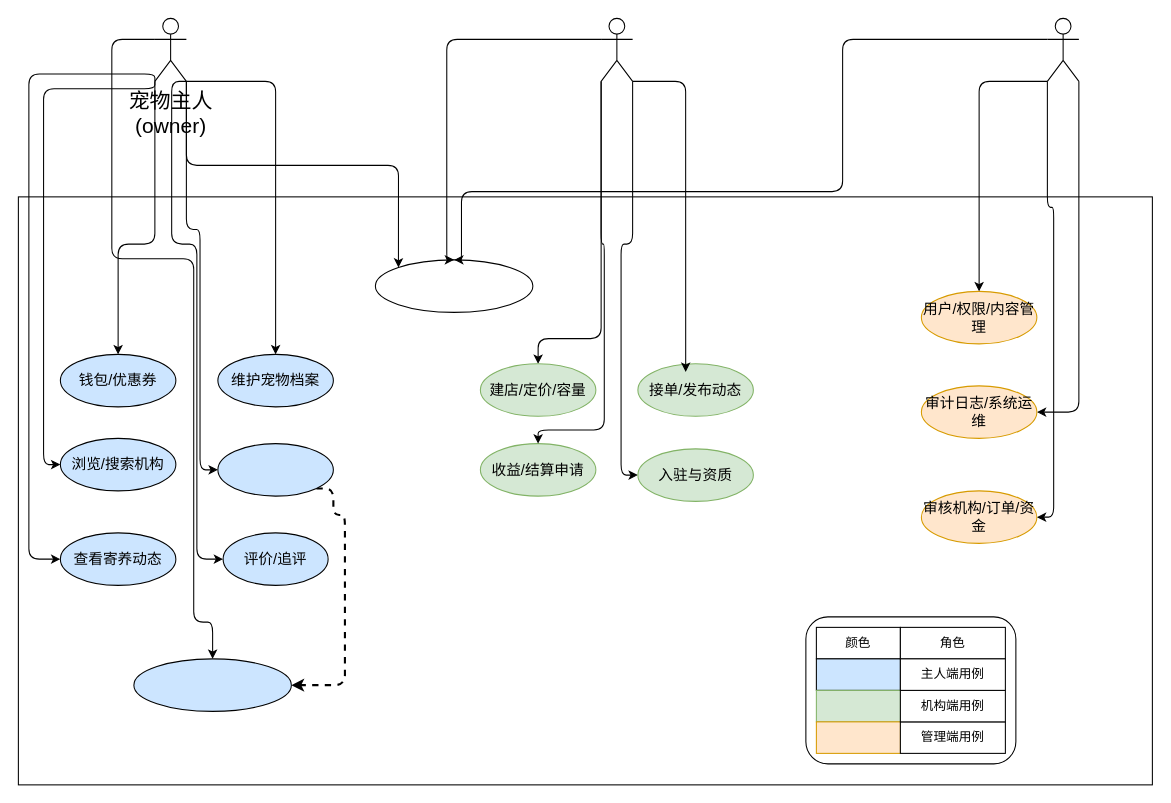
Some shapes in this 1171 by 803 pixel diagram are drawn without their labels. The shapes that lost their labels are listed below. From the top down, each one's centre as x and y in pixels, then its label:
(x=616, y=49): 寄养机构 (sitter)
(x=1062, y=49): 管理员 (admin)
(x=453, y=285): 登录/注册
(x=275, y=469): 预约下单
(x=212, y=684): 在线支付/退款
